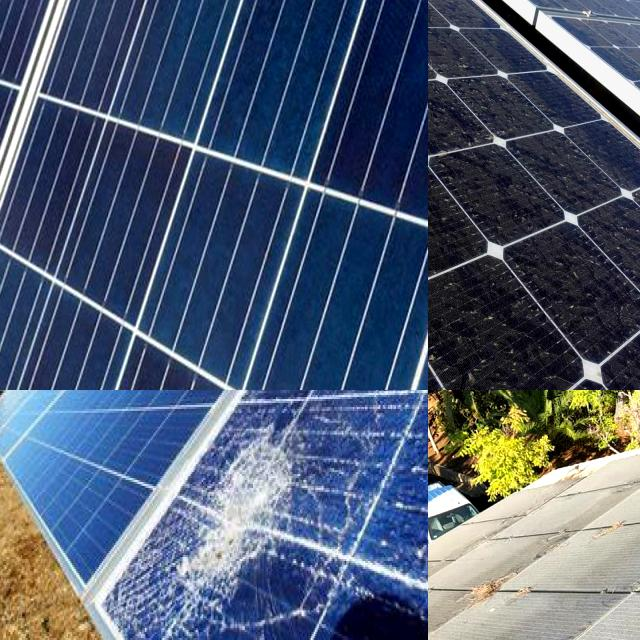crack: (0, 0, 428, 390)
dust: (428, 292, 548, 390), (523, 478, 640, 545), (428, 2, 512, 80), (550, 240, 609, 344), (428, 599, 577, 640), (428, 82, 529, 142), (544, 528, 640, 585), (528, 127, 605, 197), (451, 157, 519, 236), (428, 175, 482, 266), (428, 319, 484, 390), (428, 197, 461, 302), (604, 207, 640, 294), (434, 22, 484, 75), (428, 609, 472, 640)
hotspot: (134, 414, 317, 640), (352, 418, 414, 580)
